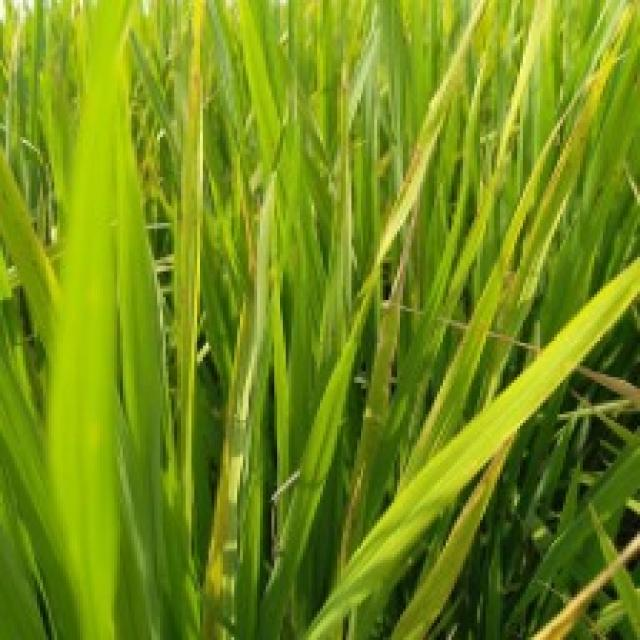Brown_Spot: (385, 140, 440, 215), (570, 101, 601, 136), (188, 61, 208, 110)
